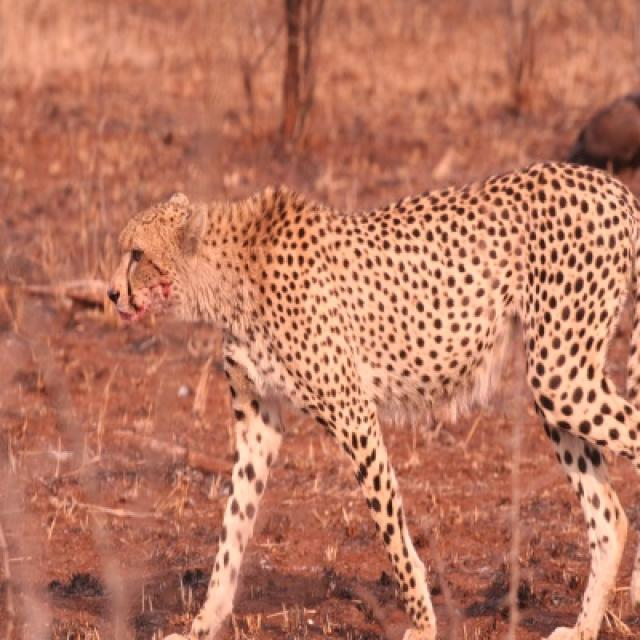Cheetah: (107, 163, 638, 638)
